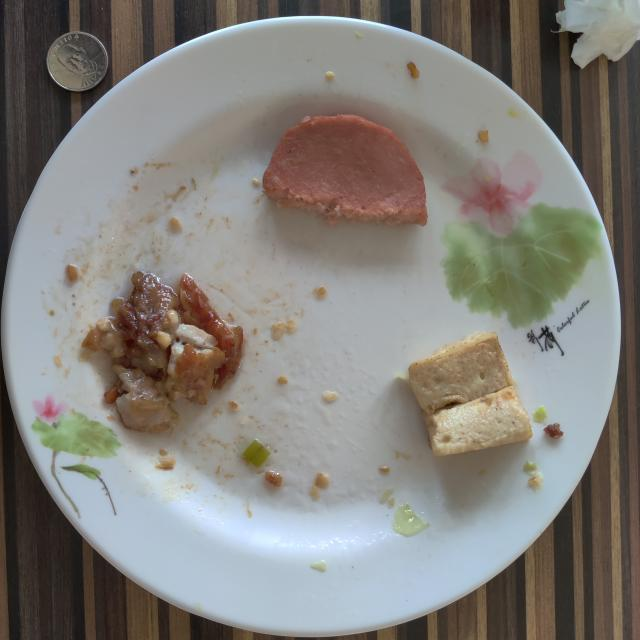Kabayaki sea bream fillet: (82, 271, 244, 432)
Spam: (262, 115, 428, 225)
coin: (46, 31, 108, 91)
creamy tofu -without sauce-: (409, 331, 532, 456)
